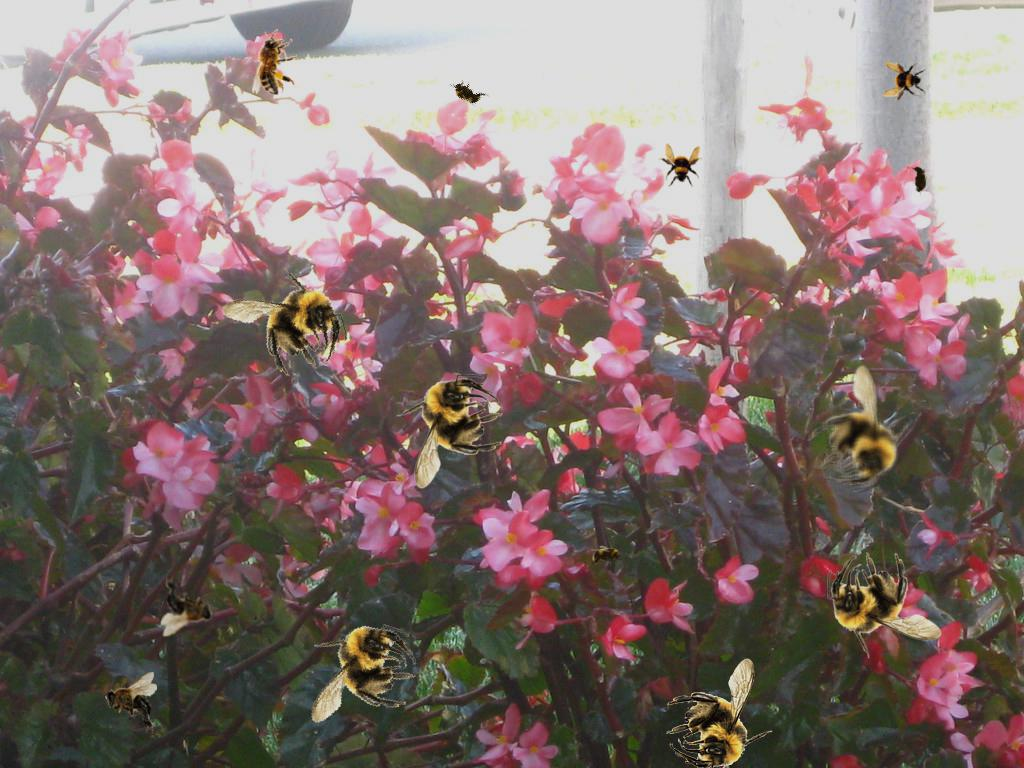Bee: (786, 353, 933, 504), (290, 605, 429, 748), (214, 255, 355, 390), (827, 552, 942, 659), (396, 374, 503, 489), (666, 658, 773, 768), (159, 575, 216, 639), (104, 672, 157, 734), (252, 29, 297, 95), (882, 60, 926, 104), (658, 143, 702, 187), (444, 72, 490, 114), (908, 160, 930, 200), (587, 545, 627, 567)
